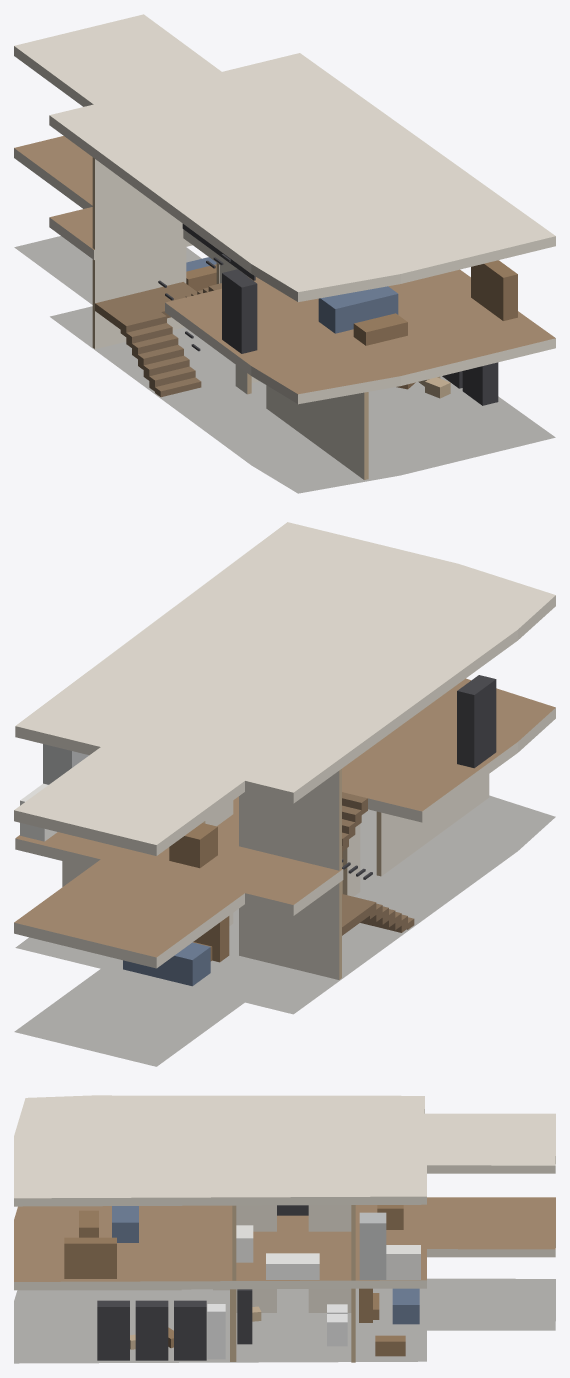
File: interior.glb
3 renders of one model, top to bottom at view 1: azimuth 30°, elevation 25°; view 2: azimuth 150°, elevation 25°; view 3: azimuth 270°, elevation 25°, orthographic. The views are drawn at different scales.
Parts seen in each view (by area): view 1: slabs, partitions, coarse-s1, stair, coarse-s0; view 2: slabs, partitions, coarse-s1, stair, coarse-s0; view 3: slabs, coarse-s0, coarse-s1, partitions, stair.
Part boxes in pixels (x1,y1,x2,y2): slabs: [14, 14, 555, 493]; partitions: [92, 157, 368, 479]; coarse-s1: [222, 260, 517, 353]; stair: [95, 224, 255, 397]; coarse-s0: [186, 257, 498, 405]; slabs: [14, 522, 555, 1066]; partitions: [62, 769, 489, 979]; coarse-s1: [20, 675, 496, 868]; stair: [342, 792, 414, 935]; coarse-s0: [123, 916, 229, 986]; slabs: [14, 1095, 555, 1363]; coarse-s0: [97, 1288, 419, 1360]; coarse-s1: [64, 1205, 420, 1279]; partitions: [32, 1205, 355, 1362]; stair: [277, 1205, 308, 1215].
Bounding box in the file's own units: 6.98 × 5.25 × 15.55.
